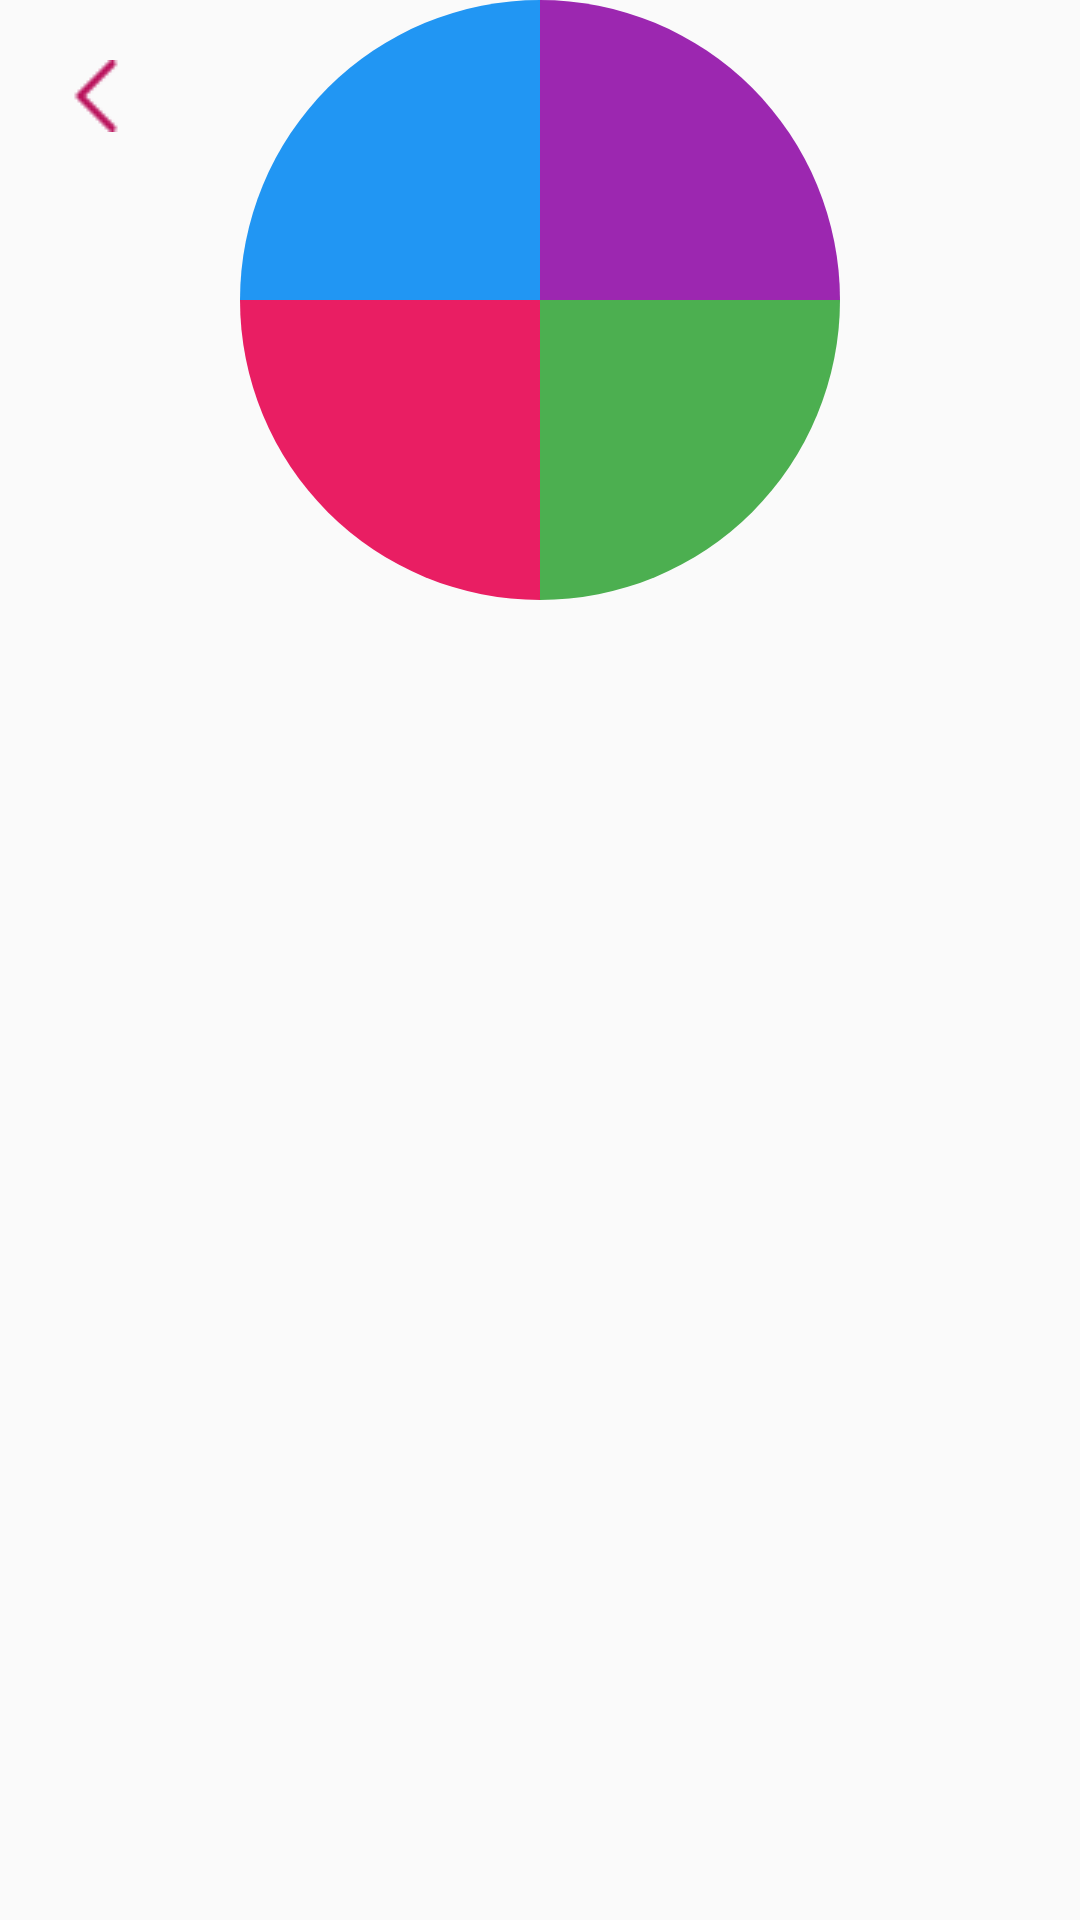

Screen size 1080*1920. Icon name, then its center in pixels as point (x, y):
back: point (96, 96)
